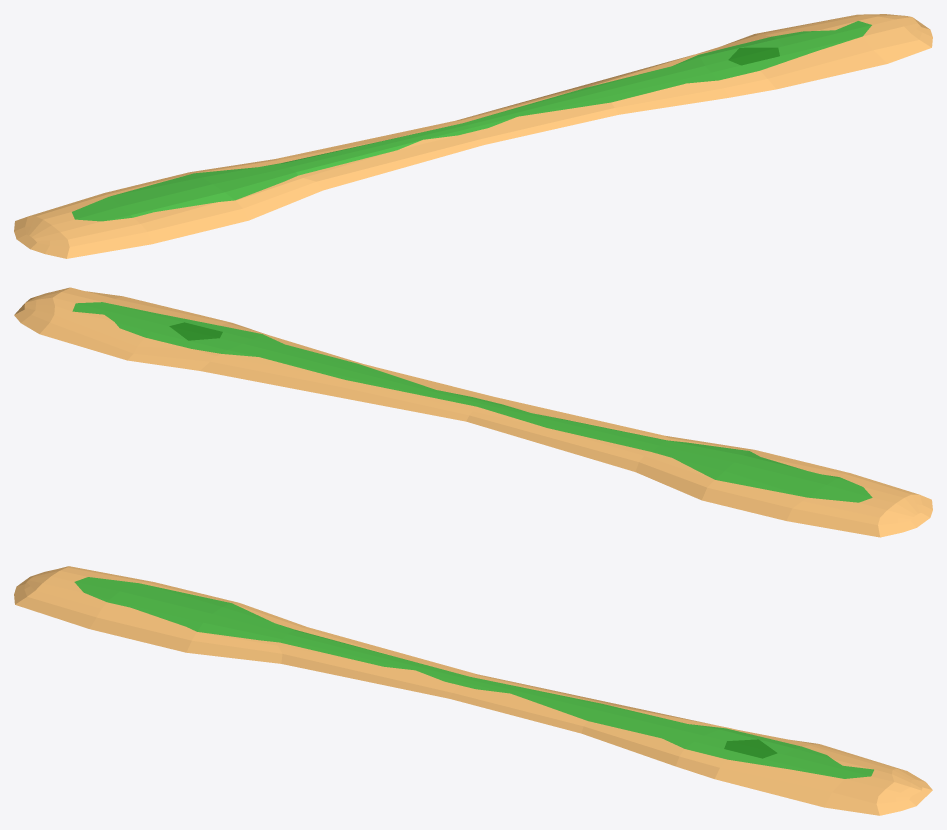
The model's file is Mitad_de_Pista_Isla.fbx.
The picture shows the model from 3 angles, top to bottom: view 1: azimuth 30°, elevation 25°; view 2: azimuth 150°, elevation 25°; view 3: azimuth 330°, elevation 25°; orthographic projection.
Parts seen in each view (by area): view 1: Cylinder.001; view 2: Cylinder.001; view 3: Cylinder.001.
Part boxes in pixels (bbox=[...]): Cylinder.001: bbox=[14, 14, 932, 258]; Cylinder.001: bbox=[14, 287, 932, 537]; Cylinder.001: bbox=[14, 566, 932, 815].
Bounding box in the file's own units: 25549 × 408 × 3166.
